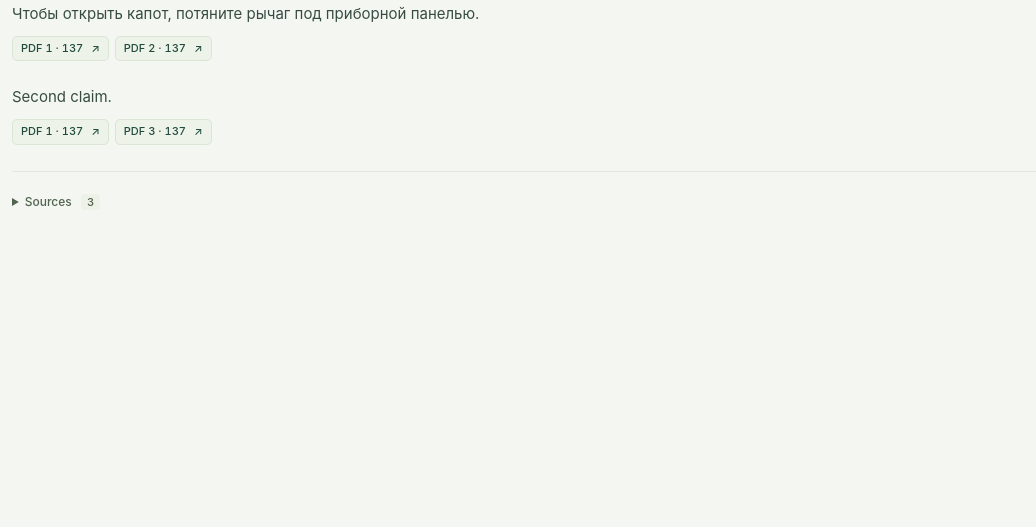
Answer presentation › shares evidence across claims without merging different documents or revisions
Check: the number of elements with class "answer-claim" is 2, box [12,4,480,61]; [12,87,212,145]
Click the heading "Sources 3": (62, 202) [25,194,100,210]
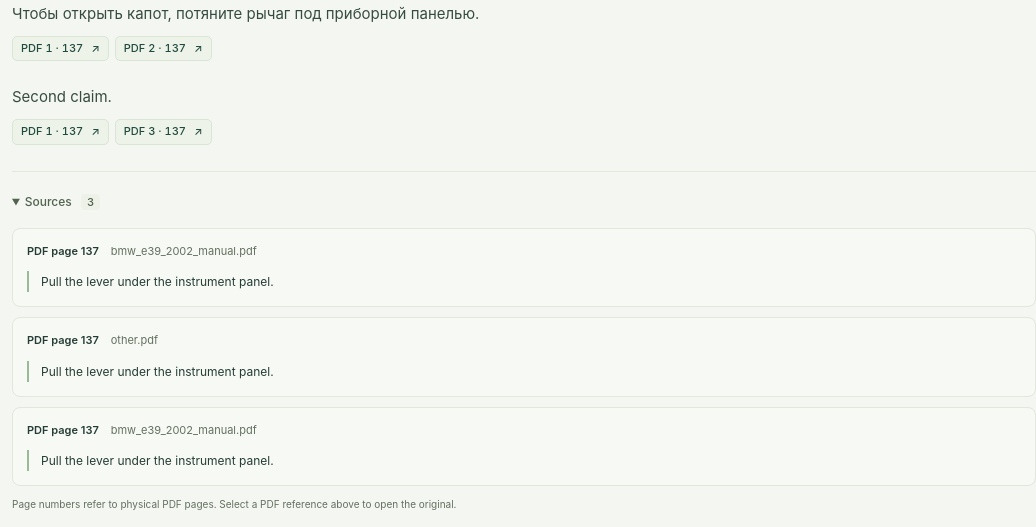
Check: the text "Pull the lever under the instrument panel." is shown 3 times, box [27,271,1021,292]; [27,361,1021,382]; [27,450,1021,471]
Check: the text "other.pdf" is shown, box [111,332,158,349]
